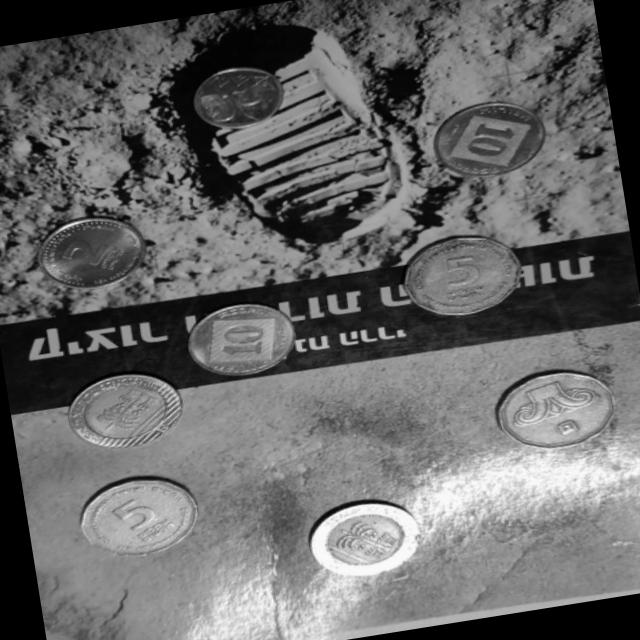1-shekel: (189, 57, 289, 135)
10-shekel: (54, 358, 182, 459), (301, 495, 429, 584)
2-shekel: (44, 208, 146, 295)
5-shekel: (468, 358, 626, 460), (70, 472, 206, 564), (402, 231, 528, 324)
